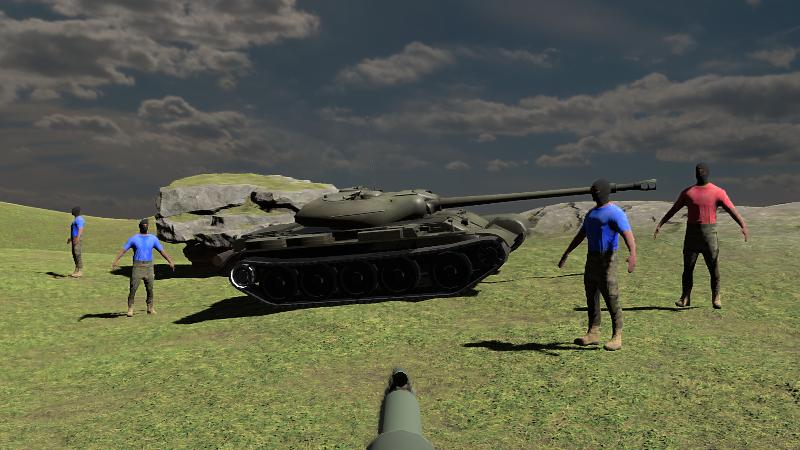Human: (654, 160, 748, 311), (559, 178, 637, 351), (112, 218, 174, 318), (67, 205, 84, 279)
Tank: (223, 181, 651, 308)
